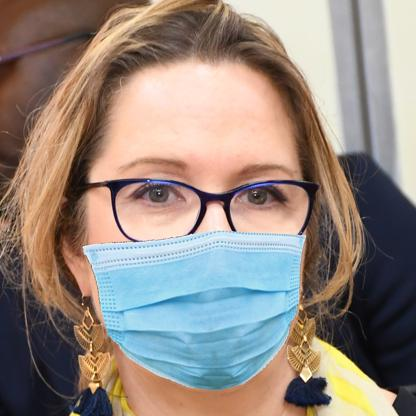mask: (80, 231, 307, 392)
